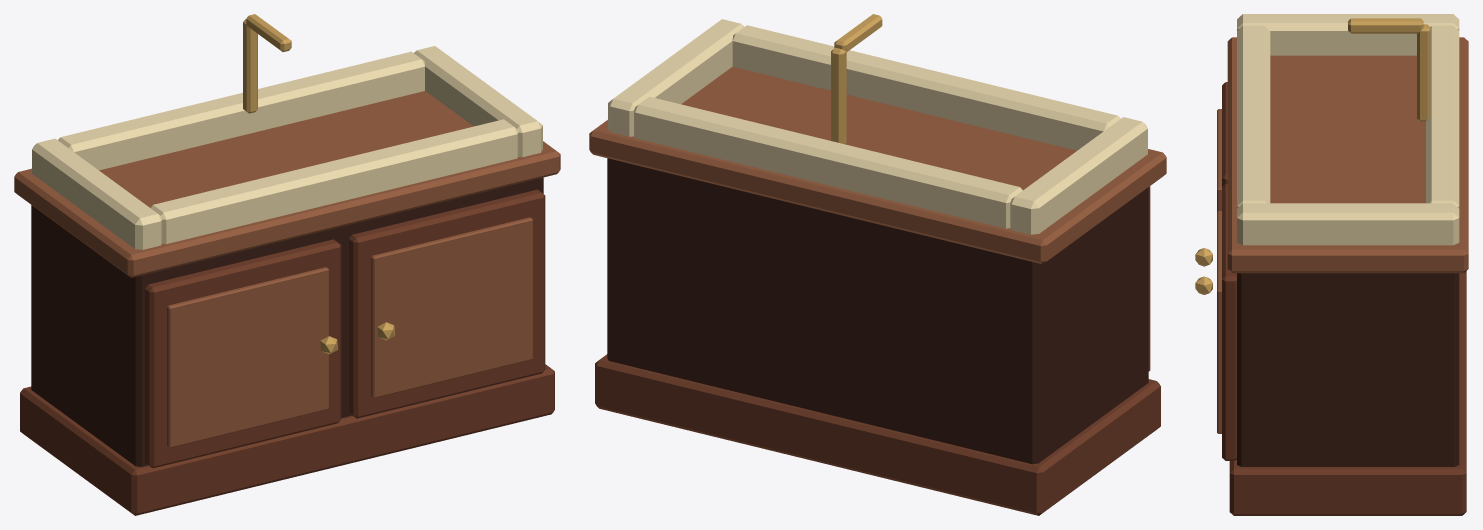
The model's file is sink_01.glb.
3 views of the same model, side by side, from view 1: azimuth 30°, elevation 25°; view 2: azimuth 150°, elevation 25°; view 3: azimuth 270°, elevation 25° (orthographic). The views are drawn at different scales.
Visible parts, largest first — view 1: Base, Base_Top, Base_Body, Base_Plinth, RimY, RimY_001, RimX, RimX_001, TapStem, TapNeck; view 2: Base_Body, Base_Top, Base_Plinth, RimY_001, RimY, RimX, RimX_001, TapStem, TapNeck; view 3: Base_Body, Base_Top, Base_Plinth, RimX_001, RimX, RimY, Base, RimY_001, TapStem, TapNeck.
Boxes of the visible parts, x1,y1,x2,y2 form: Base: (145, 189, 545, 468); Base_Top: (14, 91, 560, 277); Base_Body: (31, 177, 543, 466); Base_Plinth: (20, 364, 554, 515); RimY: (150, 119, 518, 244); RimY_001: (58, 51, 424, 170); RimX: (32, 138, 162, 249); RimX_001: (414, 46, 542, 157); TapStem: (243, 19, 257, 113); TapNeck: (246, 14, 291, 51); Base_Body: (607, 158, 1148, 464); Base_Top: (589, 66, 1166, 264); Base_Plinth: (595, 354, 1160, 515); RimY_001: (634, 96, 1022, 228); RimY: (732, 25, 1120, 150); RimX: (1010, 117, 1147, 234); RimX_001: (608, 19, 743, 136); TapStem: (831, 47, 846, 144); TapNeck: (834, 14, 882, 52); Base_Body: (1237, 273, 1459, 466); Base_Top: (1227, 37, 1468, 273); Base_Plinth: (1229, 271, 1466, 515); RimX_001: (1237, 203, 1459, 245); RimX: (1237, 14, 1459, 55); RimY: (1237, 25, 1270, 208); Base: (1195, 82, 1236, 460); RimY_001: (1426, 25, 1459, 208); TapStem: (1417, 24, 1430, 121); TapNeck: (1348, 18, 1423, 33).
Size of the model in its own units: 1.38 by 1.17 by 0.7368.
